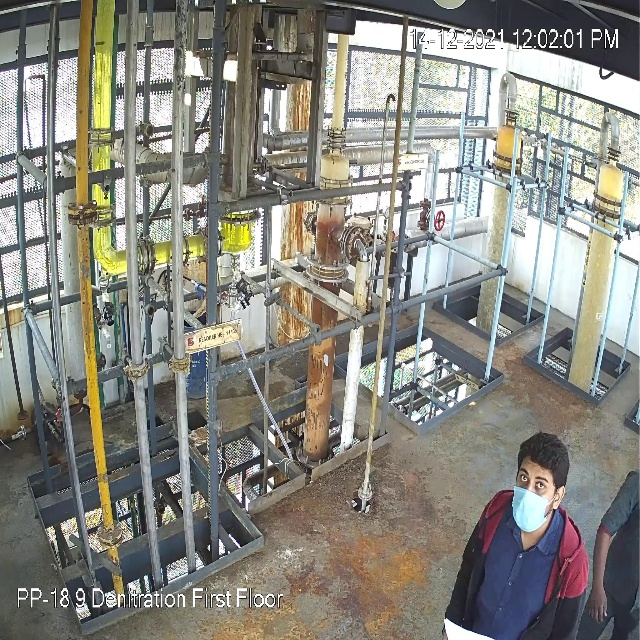Sin_gafas: (514, 467, 551, 495)
